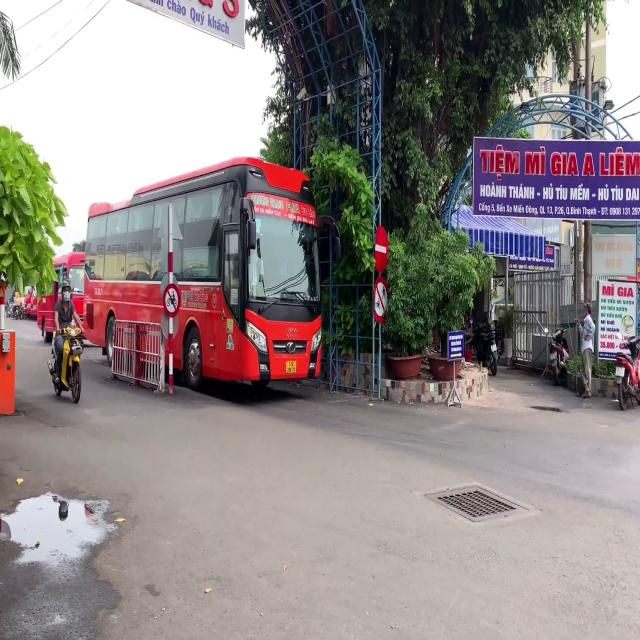bien_vang: (286, 362, 296, 373)
